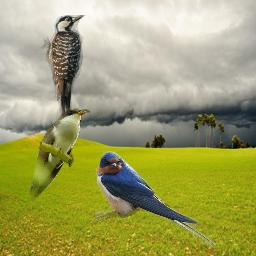Cuckoo: (26, 108, 90, 202)
Swallow: (95, 151, 216, 247)
Woodpecker: (39, 15, 86, 121)
